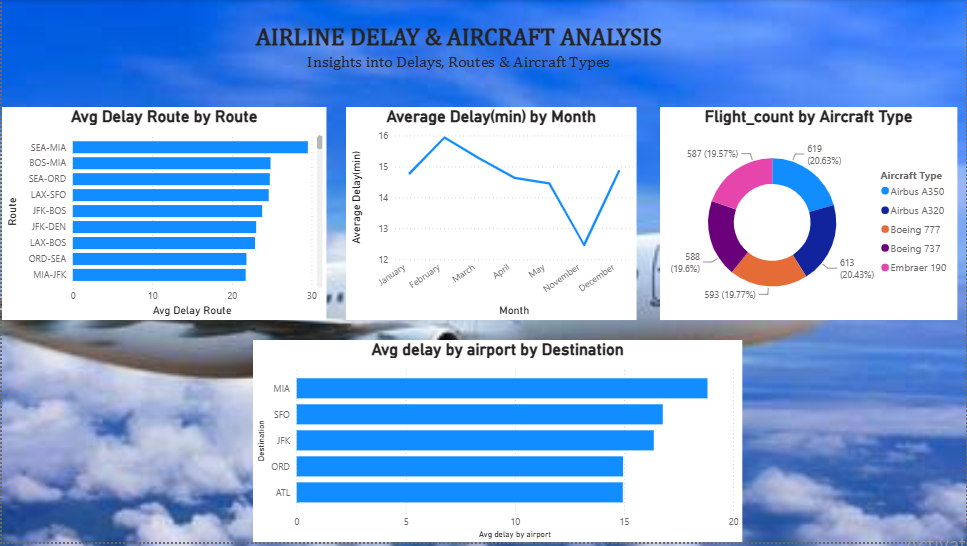

The page's visual inventory and layout, read from the dashboard file:
{"tool":"powerbi","page":{"name":"Page 2","canvas":[1280,720],"ordinal":1},"visuals":[{"type":"barChart","fields":{"Category":["Airline_Flights.Route"],"Y":["Airline_Flights.Avg Delay Route"]},"box":[0,142.5,431.2,282.5],"z":0},{"type":"lineChart","fields":{"Category":["Airline_Flights.Date.Variation.Date Hierarchy.Month"],"Y":["Airline_Airports.Average_delay(min)"]},"box":[457.5,142.5,386.2,282.5],"z":1000},{"type":"donutChart","fields":{"Category":["Airline_Flights.Aircraft Type"],"Y":["Airline_Airports.Flight_count"]},"box":[873.8,142.5,395,282.5],"z":2000},{"type":"barChart","fields":{"Category":["Airline_Flights.Destination"],"Y":["Airline_Airports.Avg delay by airport"]},"box":[347.5,451.2,571.2,253.8],"z":3000},{"type":"textbox","box":[20,26.2,1173.8,78.8],"z":4000}]}

Visuals, with their boxes in screenshot pixels (x1, y1, x2, y2), scaled from the page's 1280x720 canvas onto the 967x546 screenshot:
barChart - Airline_Flights.Route x Airline_Flights.Avg Delay Route: left=0, top=108, right=326, bottom=322
lineChart - Airline_Flights.Date.Variation.Date Hierarchy.Month x Airline_Airports.Average_delay(min): left=346, top=108, right=637, bottom=322
donutChart - Airline_Flights.Aircraft Type x Airline_Airports.Flight_count: left=660, top=108, right=959, bottom=322
barChart - Airline_Flights.Destination x Airline_Airports.Avg delay by airport: left=263, top=342, right=694, bottom=535
textbox: left=15, top=20, right=902, bottom=80
